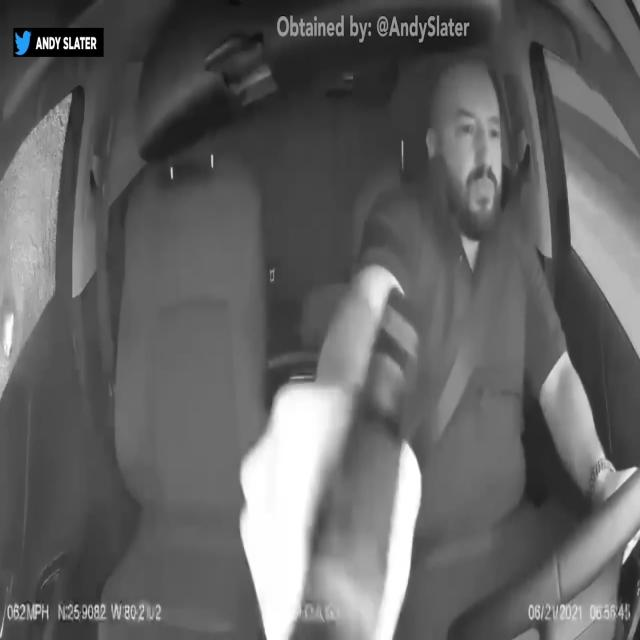senjata_api: (294, 285, 421, 640)
